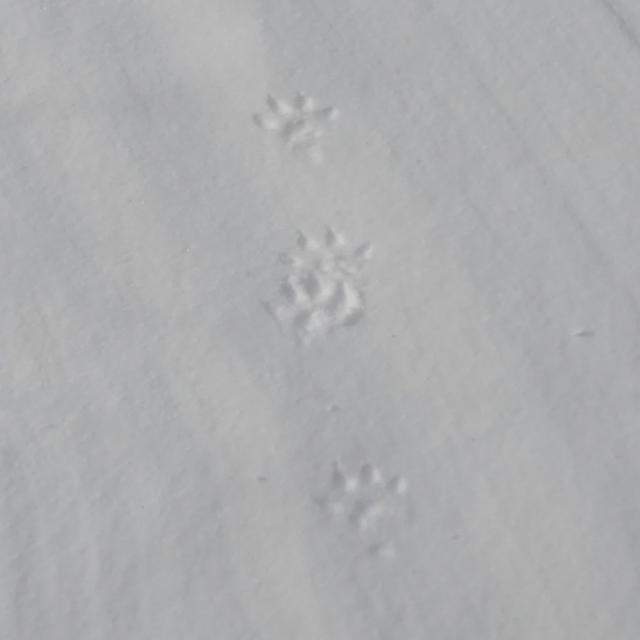mustelid: (319, 458, 415, 532), (260, 281, 360, 351), (254, 90, 344, 166)
